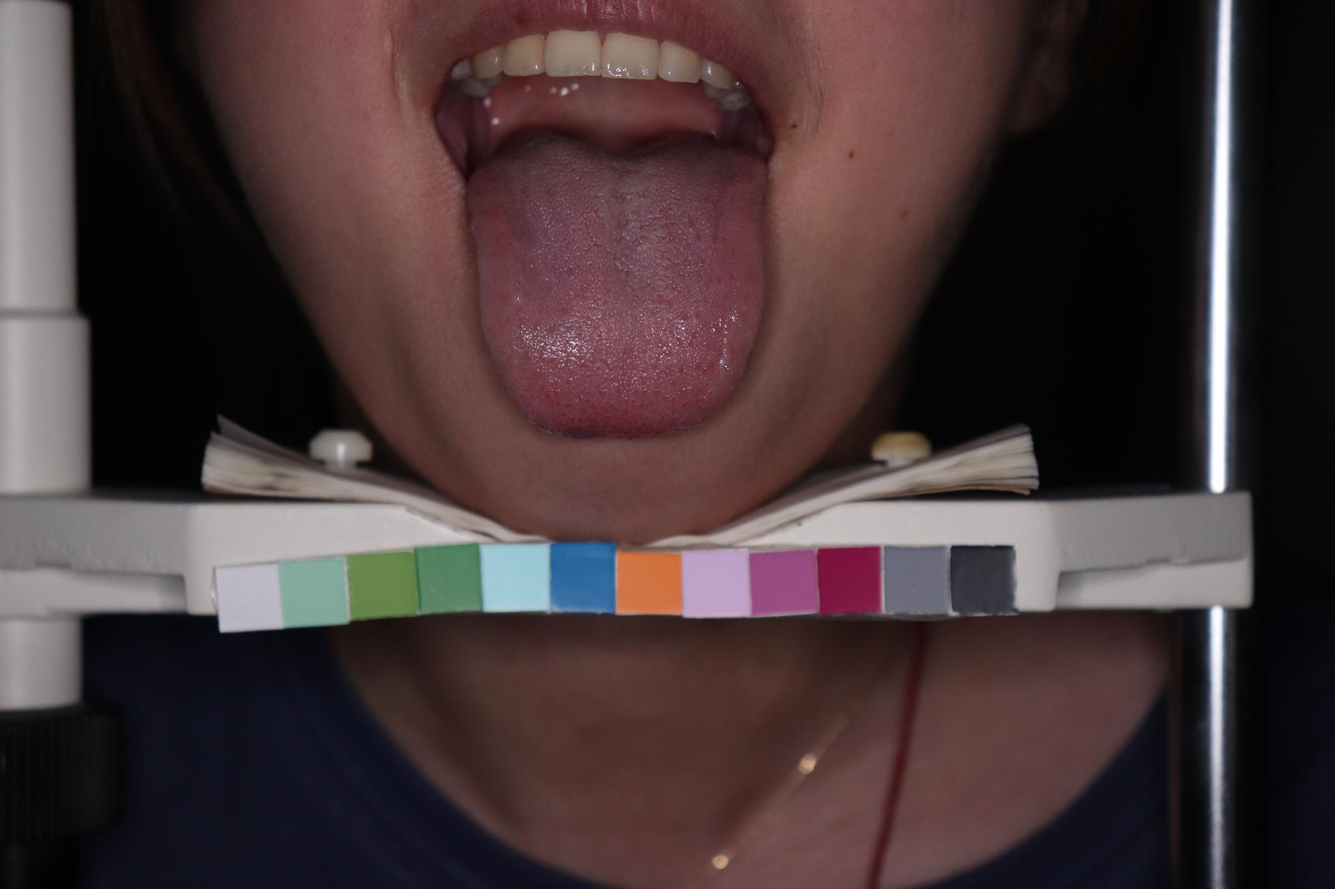baitaishe: (467, 131, 769, 436)
shenquao: (539, 132, 697, 171)
